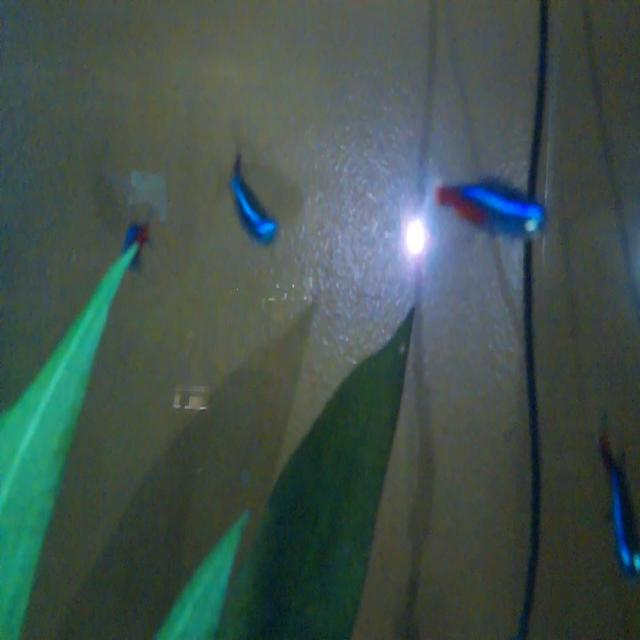fish: (432, 153, 550, 256), (217, 136, 291, 258), (591, 419, 640, 585)
